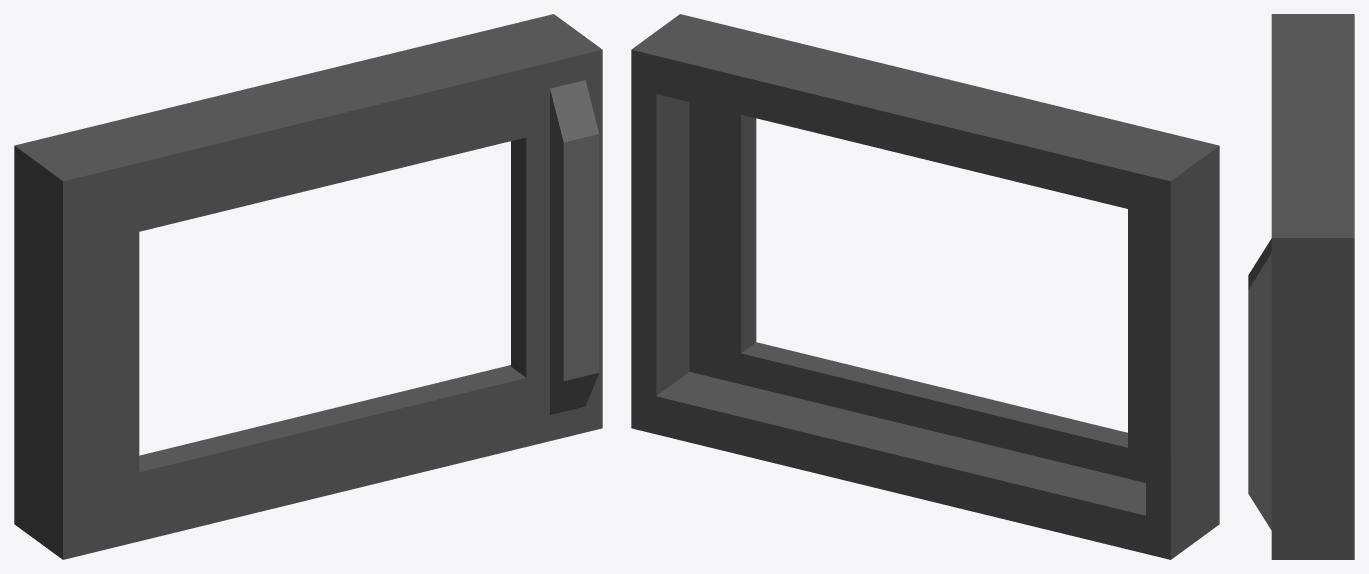
File: Itr_Obj_Microwave_Door_03.FBX
3 renders of one model, left to right at view 1: azimuth 30°, elevation 25°; view 2: azimuth 150°, elevation 25°; view 3: azimuth 270°, elevation 25°, orthographic. The views are drawn at different scales.
Visible parts, largest first — view 1: Itr_Obj_Microwave_Door_03; view 2: Itr_Obj_Microwave_Door_03; view 3: Itr_Obj_Microwave_Door_03.
Boxes of the visible parts, x1,y1,x2,y2 form: Itr_Obj_Microwave_Door_03: [14, 14, 602, 559]; Itr_Obj_Microwave_Door_03: [631, 14, 1219, 559]; Itr_Obj_Microwave_Door_03: [1248, 14, 1354, 559].
Size of the model in its own units: 21.27 by 14.26 by 4.28.
